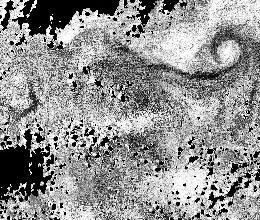CE: (207, 28, 251, 69)
